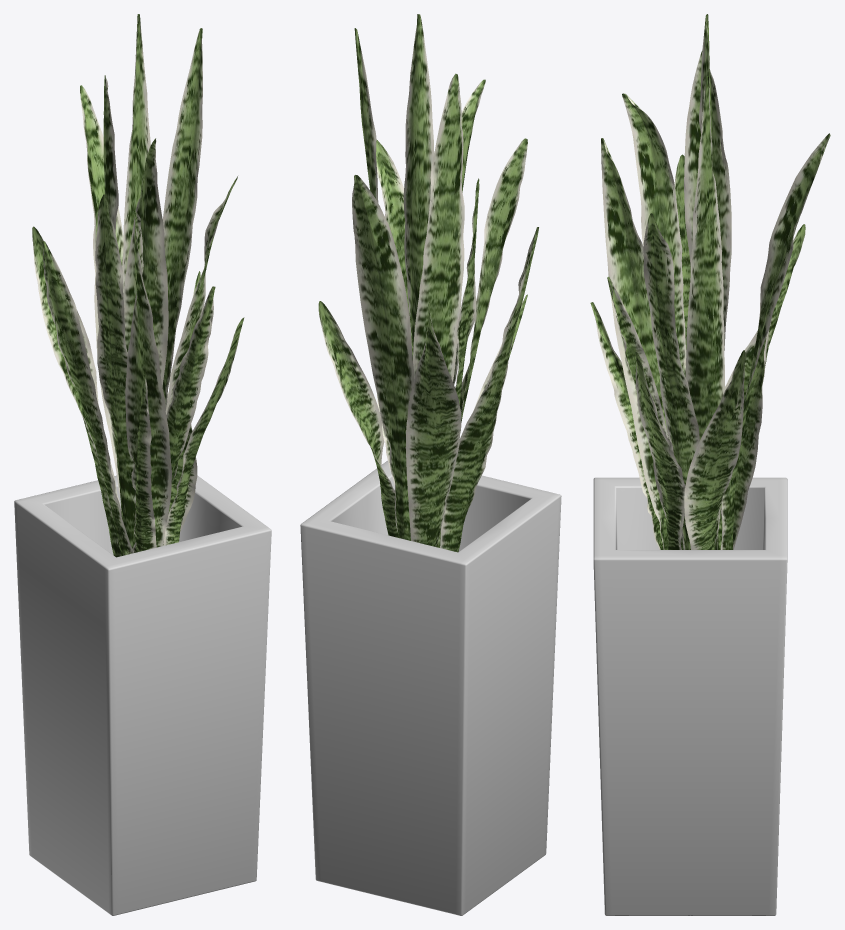
File: planter.glb
3 renders of one model, left to right at view 1: azimuth 30°, elevation 25°; view 2: azimuth 150°, elevation 25°; view 3: azimuth 270°, elevation 25°, orthographic. The views are drawn at different scales.
Visible parts, largest first — view 1: sansevieriapot, sansevieriaplant; view 2: sansevieriapot, sansevieriaplant; view 3: sansevieriapot, sansevieriaplant.
Part boxes in pixels (x1,y1,x2,y2): sansevieriapot: [14, 475, 271, 915]; sansevieriaplant: [32, 14, 244, 557]; sansevieriapot: [300, 460, 561, 915]; sansevieriaplant: [318, 14, 538, 552]; sansevieriapot: [593, 477, 787, 915]; sansevieriaplant: [590, 14, 830, 549].
Bounding box in the file's own units: 0.389 × 1.68 × 0.4206.
2 materials, 1 textured.
